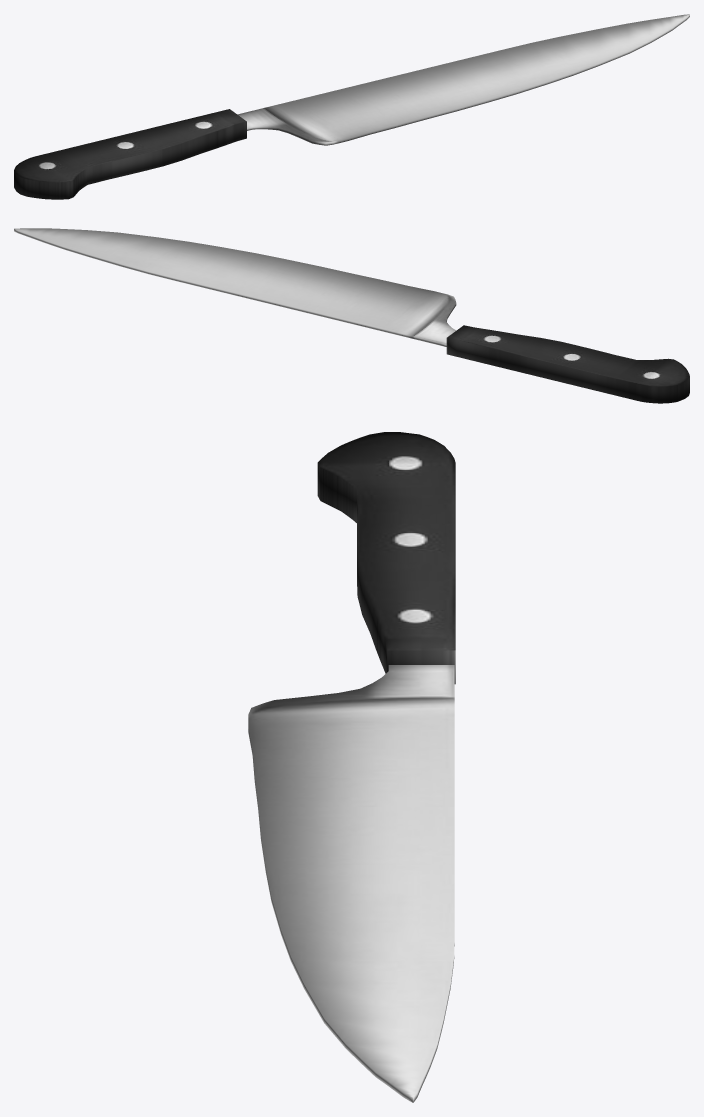
File: Modelo3DCuchillo1.fbx
The picture shows the model from 3 angles, top to bottom: view 1: azimuth 30°, elevation 25°; view 2: azimuth 150°, elevation 25°; view 3: azimuth 270°, elevation 25°; orthographic projection. The views are drawn at different scales.
Parts seen in each view (by area): view 1: Blade_Cube_003, Handle_Cube_002; view 2: Blade_Cube_003, Handle_Cube_002; view 3: Blade_Cube_003, Handle_Cube_002.
Boxes of the visible parts, x1,y1,x2,y2 form: Blade_Cube_003: (237,14,689,145); Handle_Cube_002: (14,109,246,199); Blade_Cube_003: (14,228,456,346); Handle_Cube_002: (446,325,689,403); Blade_Cube_003: (248,665,454,1102); Handle_Cube_002: (317,432,455,684).
Size of the model in its own units: 43.2 by 1.03 by 5.8.
1 material, 1 textured.
